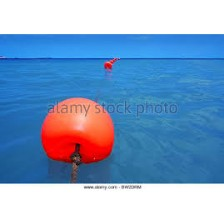buoy: (42, 97, 113, 164), (104, 59, 115, 69)
